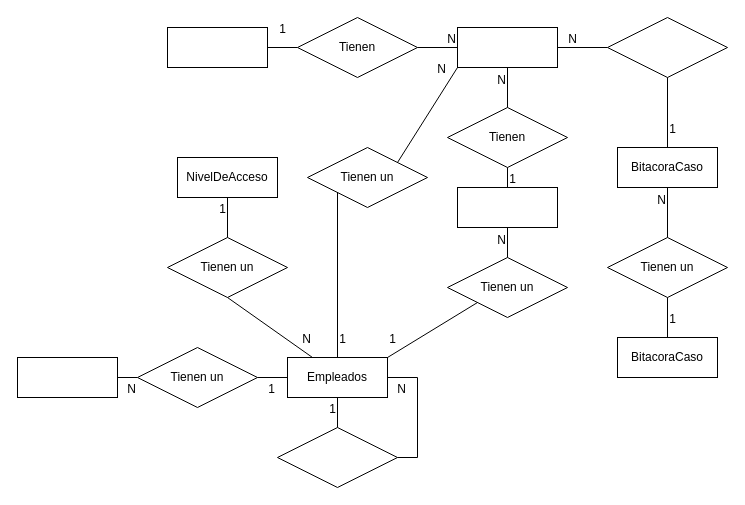
This 745x505 diagram has some shape labels left out. Here are the shapes that lost their labels. From the top down, the centre of each, then its label:
At point 217,47: "EstadoCaso".
At point 507,47: "CasoProyecto".
At point 667,47: "Tiene".
At point 507,207: "Proyectos".
At point 67,377: "Departamentos".
At point 337,457: "Tiene a cargo a".
